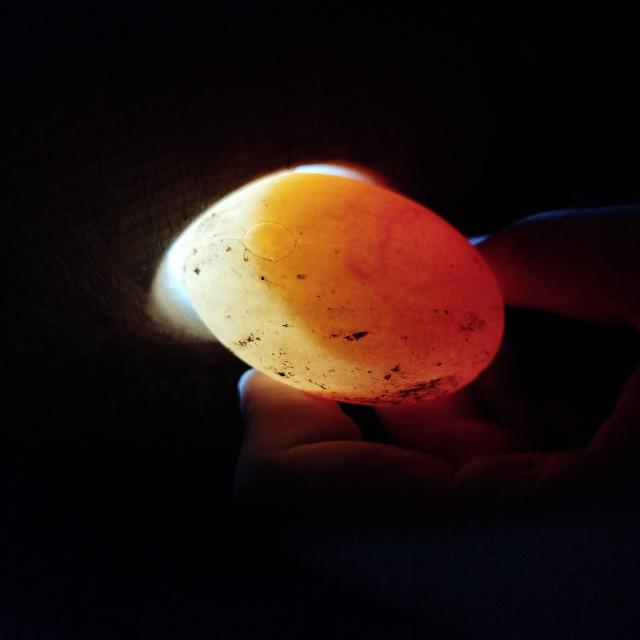Rachadura: (239, 221, 298, 263)
